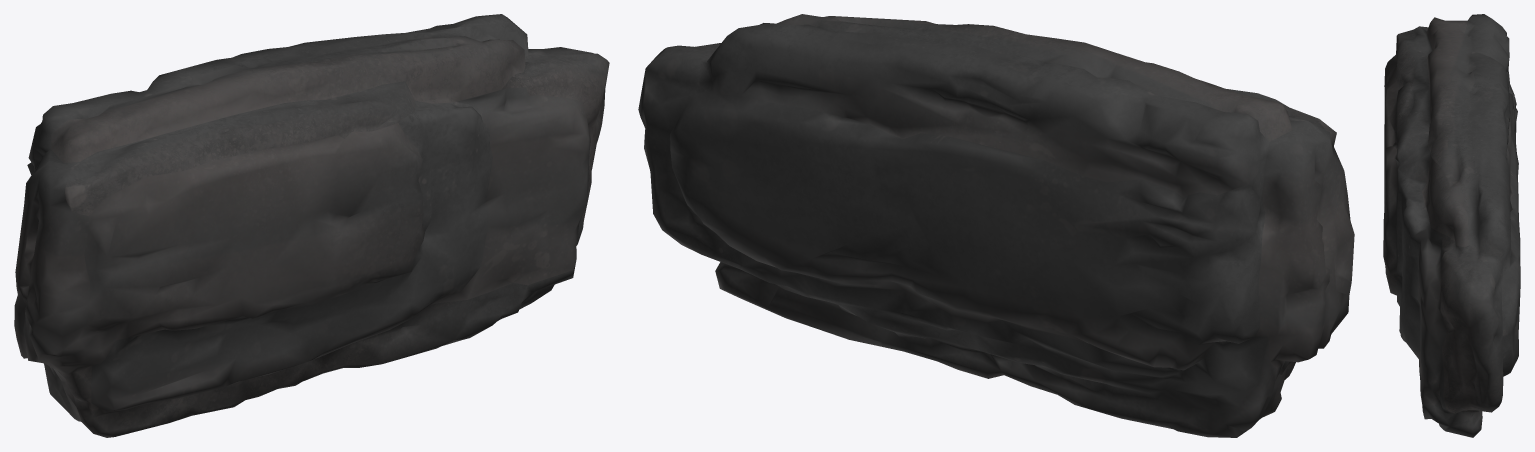
Rendered from rock.obj.
3 views of the same model, side by side, from view 1: azimuth 30°, elevation 25°; view 2: azimuth 150°, elevation 25°; view 3: azimuth 270°, elevation 25° (orthographic). The views are drawn at different scales.
Visible parts, largest first — view 1: Group11121; view 2: Group11121; view 3: Group11121.
Part boxes in pixels (x1,y1,x2,y2): Group11121: (14, 14, 609, 437); Group11121: (638, 14, 1354, 437); Group11121: (1383, 14, 1520, 437).
Size of the model in its own units: 2.02 by 1 by 0.4816.
1 material, 1 textured.
